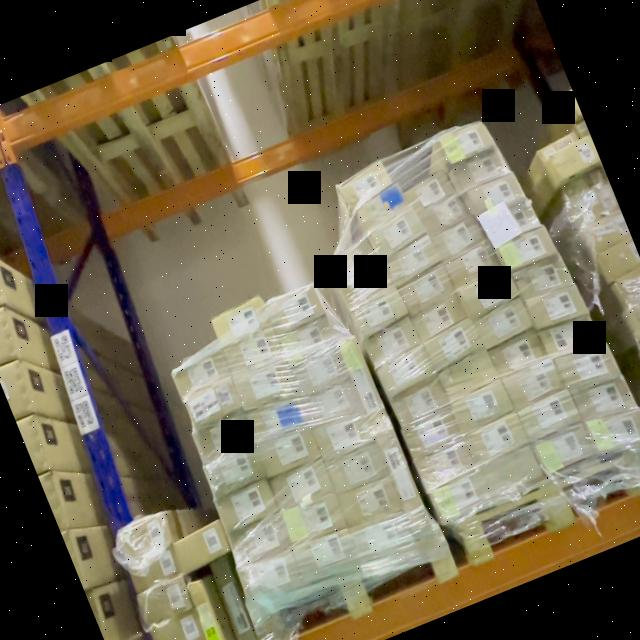box: (209, 556, 263, 640), (335, 338, 385, 422), (290, 528, 360, 585), (347, 512, 418, 566), (335, 474, 402, 530), (255, 423, 322, 478), (518, 386, 584, 441), (279, 491, 345, 546), (239, 548, 305, 603), (323, 440, 389, 495), (463, 410, 529, 464), (448, 378, 514, 432), (184, 573, 237, 640), (556, 339, 620, 394), (203, 444, 267, 498), (234, 358, 298, 412), (286, 345, 350, 399), (478, 447, 544, 499), (216, 478, 280, 531), (228, 512, 292, 565), (310, 409, 374, 462), (346, 286, 411, 338), (400, 408, 463, 461), (534, 424, 598, 476), (246, 393, 310, 445), (270, 458, 334, 510), (182, 378, 244, 431), (298, 378, 362, 429), (504, 358, 566, 410), (194, 412, 256, 464), (526, 282, 588, 334), (361, 317, 424, 368), (572, 374, 636, 424), (375, 347, 437, 398), (414, 438, 476, 489), (540, 312, 602, 363), (367, 207, 429, 258), (436, 350, 499, 400), (116, 512, 179, 562), (264, 282, 324, 334), (474, 298, 536, 348), (459, 268, 521, 318), (423, 320, 485, 370), (480, 195, 542, 245), (172, 520, 232, 571), (222, 326, 284, 375), (388, 376, 448, 426), (498, 224, 558, 274), (212, 294, 272, 344), (172, 348, 233, 397), (382, 235, 443, 284), (137, 577, 196, 627), (397, 265, 456, 315), (514, 254, 574, 302), (355, 183, 415, 231), (449, 145, 510, 192), (587, 405, 640, 459), (338, 162, 397, 210), (275, 315, 335, 362), (466, 169, 526, 216), (432, 475, 488, 525), (488, 331, 546, 379), (409, 295, 468, 342), (563, 172, 618, 221), (437, 118, 493, 166), (446, 240, 504, 286), (336, 260, 394, 306), (544, 136, 602, 182), (431, 215, 487, 261), (324, 238, 380, 284), (128, 547, 182, 593), (403, 170, 457, 212), (418, 194, 470, 235), (595, 238, 640, 283), (586, 212, 632, 252), (149, 609, 208, 640), (540, 128, 586, 158), (614, 268, 640, 307), (560, 88, 582, 120), (626, 296, 640, 338), (573, 118, 589, 138)
